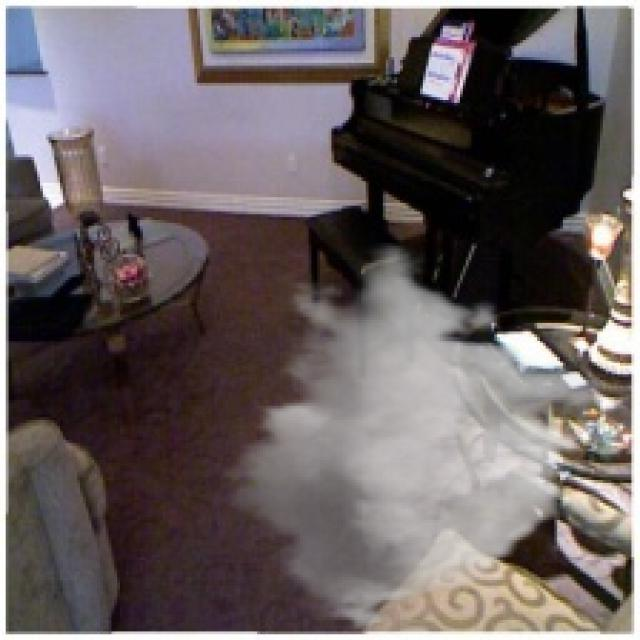smoke: (217, 243, 609, 634)
